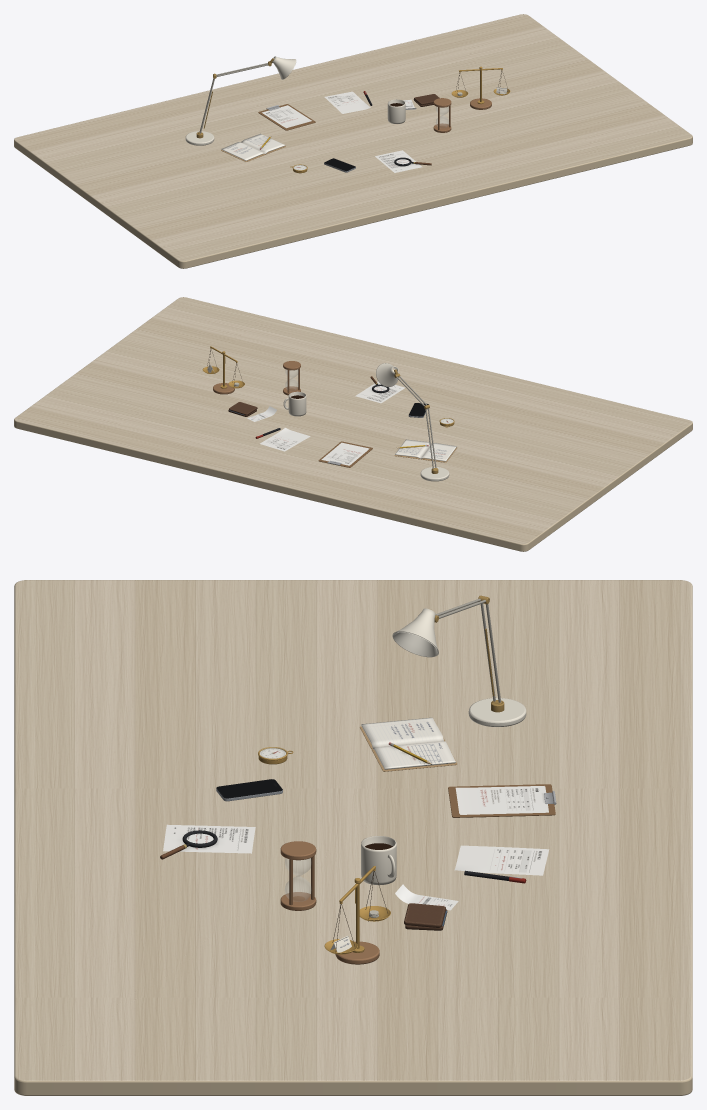
File: props.glb
3 views of the same model, one above another, from view 1: azimuth 30°, elevation 25°; view 2: azimuth 150°, elevation 25°; view 3: azimuth 270°, elevation 25° (orthographic). The views are drawn at different scales.
Parts seen in each view (by area): view 1: desk, nb_pages, cmp_page, cb_page, contract, mug_out; view 2: desk, nb_pages, cmp_page, cb_page, contract, mug_out, lamp_shade; view 3: desk, nb_pages, cb_page, cmp_page, contract, mug_out, lamp_base, cb_board, wallet_front, lamp_shade.
Part boxes in pixels (x1=…): desk: x1=14, y1=14, x2=692, y2=268; nb_pages: x1=221, y1=133, x2=285, y2=160; cmp_page: x1=324, y1=91, x2=370, y2=113; cb_page: x1=262, y1=105, x2=311, y2=127; contract: x1=375, y1=150, x2=422, y2=172; mug_out: x1=387, y1=99, x2=405, y2=123; desk: x1=14, y1=297, x2=692, y2=551; nb_pages: x1=395, y1=439, x2=456, y2=461; cmp_page: x1=260, y1=428, x2=310, y2=451; cb_page: x1=322, y1=442, x2=369, y2=465; contract: x1=355, y1=381, x2=405, y2=403; mug_out: x1=288, y1=391, x2=306, y2=416; lamp_shade: x1=376, y1=363, x2=398, y2=386; desk: x1=14, y1=580, x2=692, y2=1095; nb_pages: x1=361, y1=717, x2=455, y2=769; cb_page: x1=455, y1=786, x2=547, y2=814; cmp_page: x1=454, y1=845, x2=549, y2=875; contract: x1=163, y1=824, x2=255, y2=853; mug_out: x1=361, y1=836, x2=396, y2=885; lamp_base: x1=468, y1=698, x2=526, y2=726; cb_board: x1=448, y1=784, x2=555, y2=817; wallet_front: x1=404, y1=903, x2=445, y2=927; lamp_shade: x1=392, y1=608, x2=438, y2=657.
Size of the model in its own units: 2.8 by 0.4663 by 1.6.
Materials: 46 (9 with a texture image).
